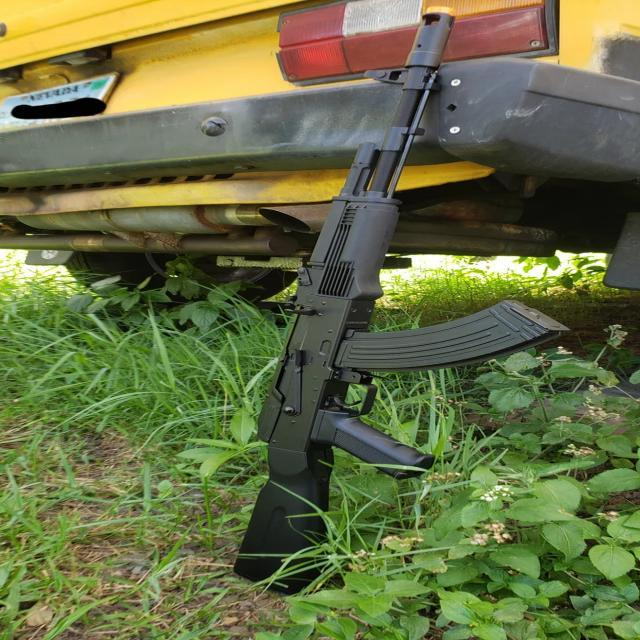weapon: (232, 9, 576, 594)
